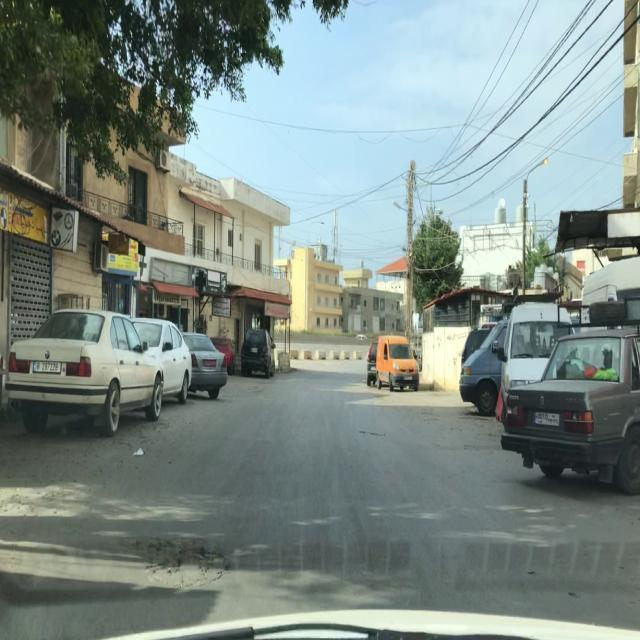pothole: (130, 536, 235, 590)
